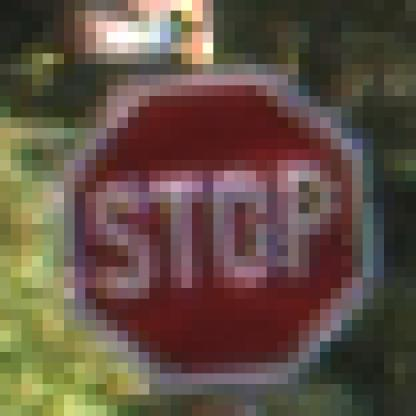stop: (58, 47, 386, 389)
